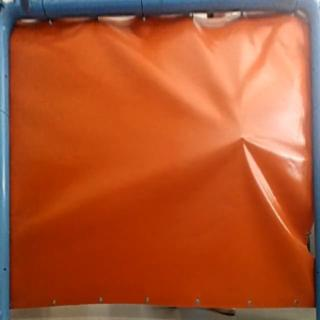Hit-hRxx: (234, 131, 251, 144)
